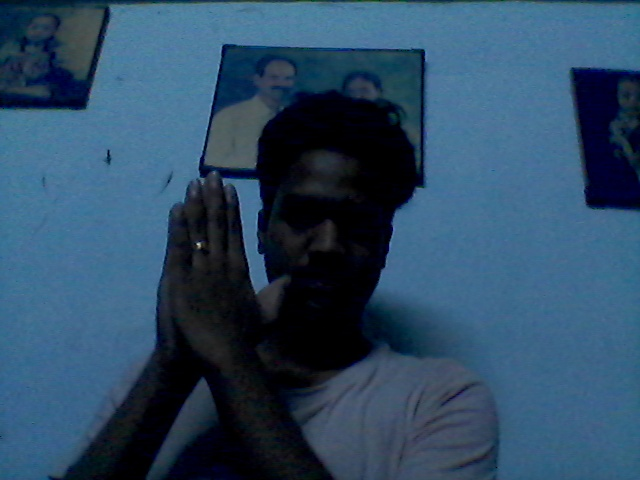Namasthe: (151, 169, 292, 405)
